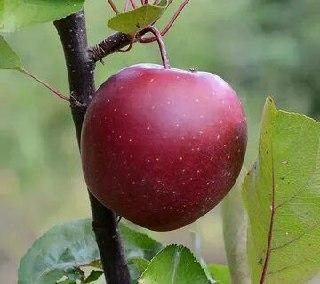Apple: (82, 64, 248, 231)
